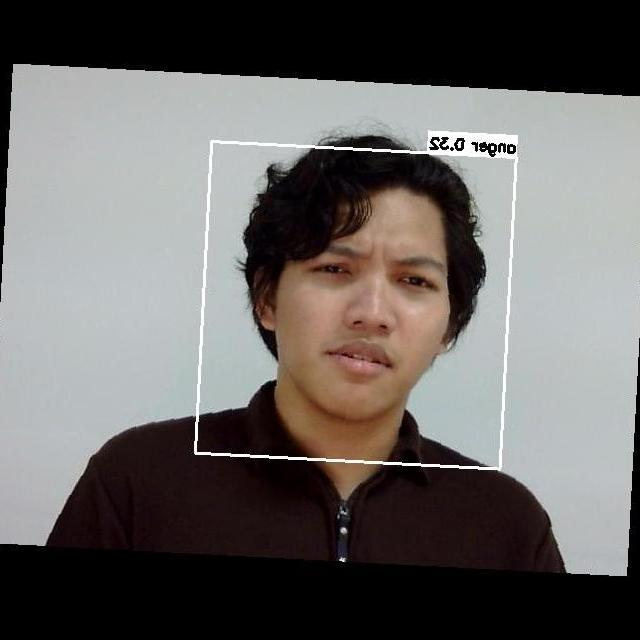Fear: (275, 222, 471, 405)
